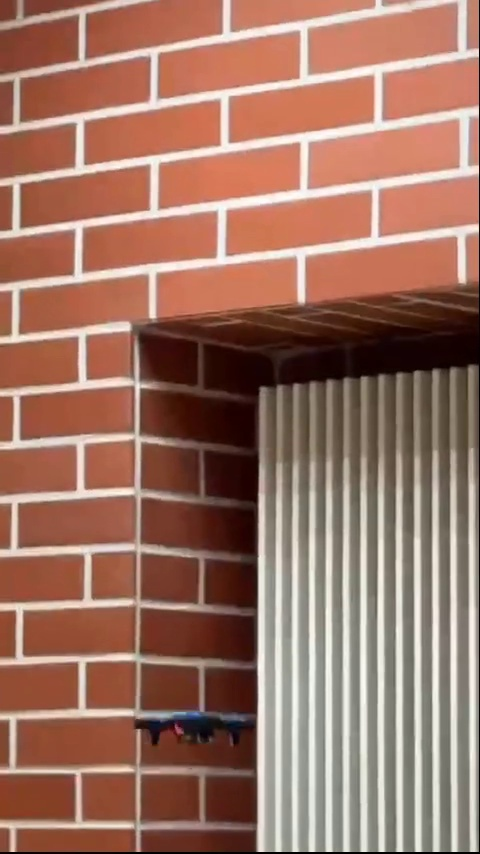drone: (128, 701, 254, 743)
